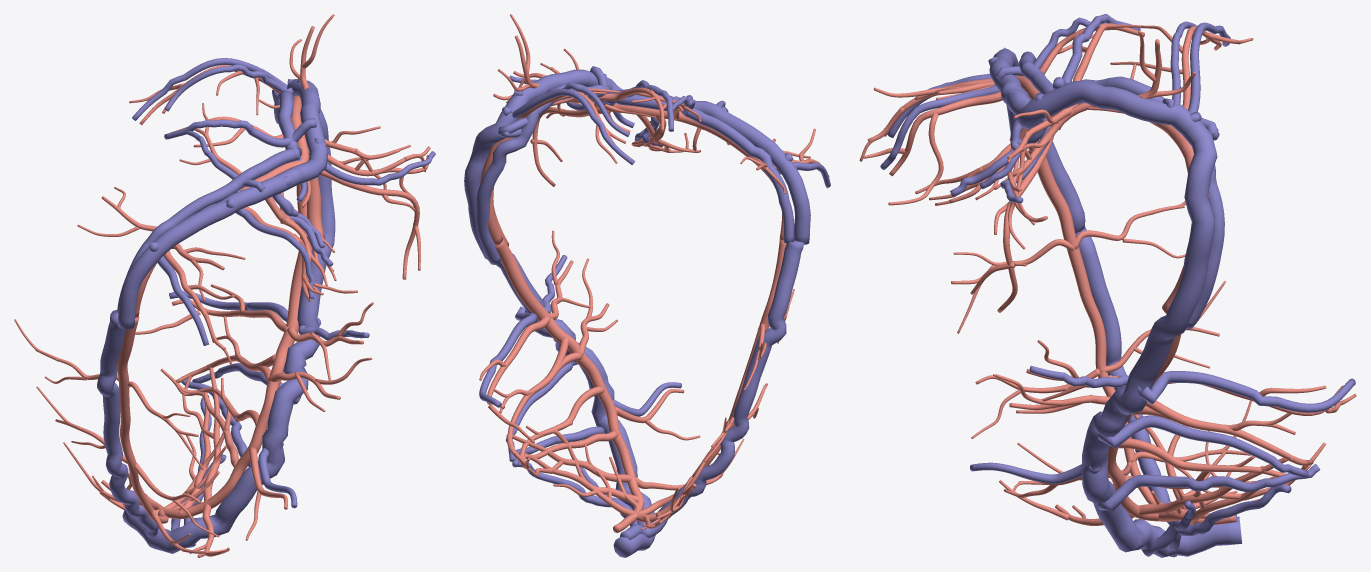
File: vessels_69.glb
3 views of the same model, side by side, from view 1: azimuth 30°, elevation 25°; view 2: azimuth 150°, elevation 25°; view 3: azimuth 270°, elevation 25° (orthographic). The views are drawn at different scales.
Parts seen in each view (by area): view 1: Renderer Node; view 2: Renderer Node; view 3: Renderer Node.
Boxes of the visible parts, x1=… form: Renderer Node: x1=14, y1=14, x2=435, y2=557; Renderer Node: x1=464, y1=14, x2=830, y2=557; Renderer Node: x1=859, y1=14, x2=1356, y2=557.
Size of the model in its own units: 88.96 by 124 by 90.6.
